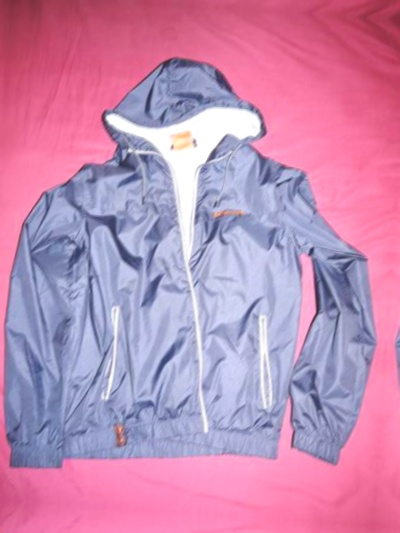Hoodie: (0, 32, 400, 475), (382, 60, 400, 504), (0, 4, 10, 448)
